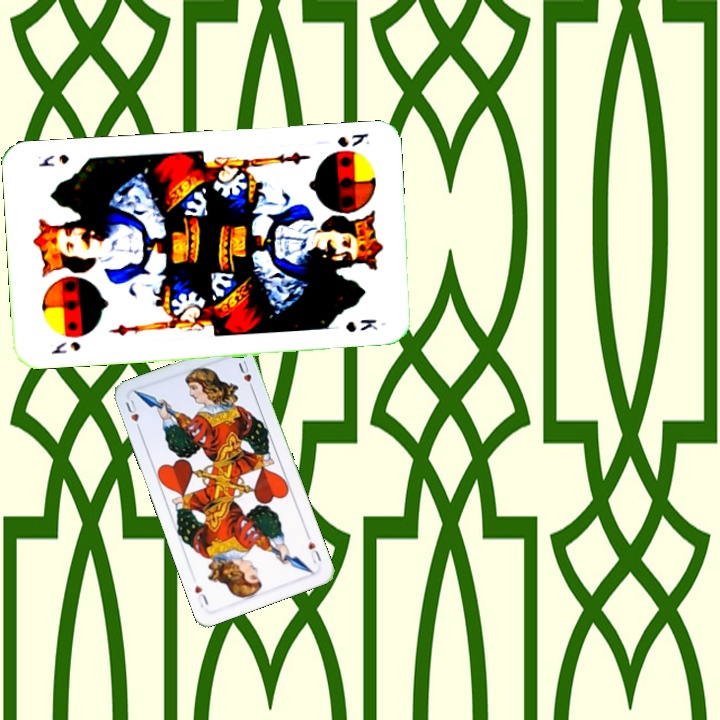HU: (121, 395, 144, 434), (302, 530, 324, 566)
SK: (334, 129, 372, 150), (47, 337, 83, 357)
